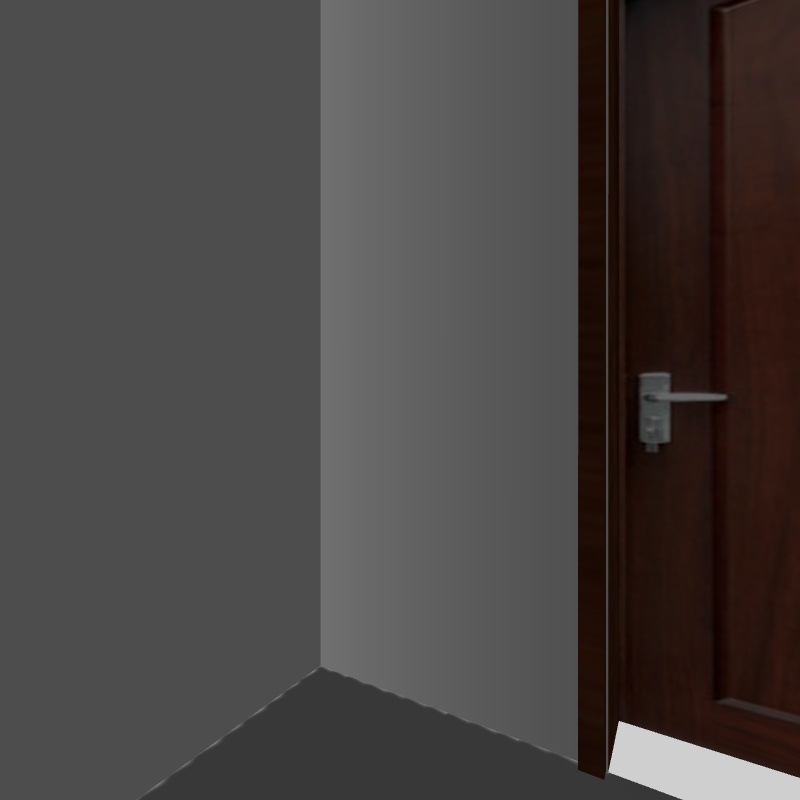handle: (616, 357, 730, 459)
